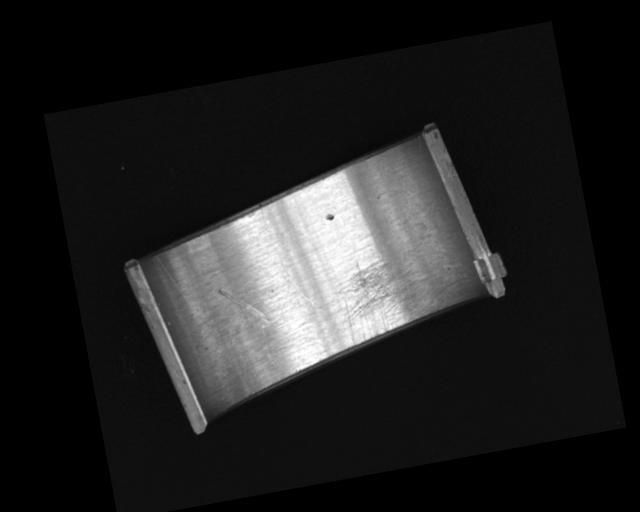bruise: (323, 212, 335, 222)
nick: (259, 199, 317, 313), (155, 246, 208, 333), (216, 281, 267, 329), (259, 318, 280, 371)
scratch: (327, 246, 449, 346)
